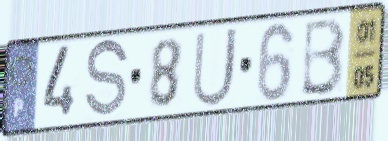4: (40, 41, 81, 126)
6: (254, 19, 296, 105)
8: (146, 35, 184, 112)
B: (298, 14, 348, 99)
S: (82, 35, 131, 123)
U: (190, 24, 241, 110)
